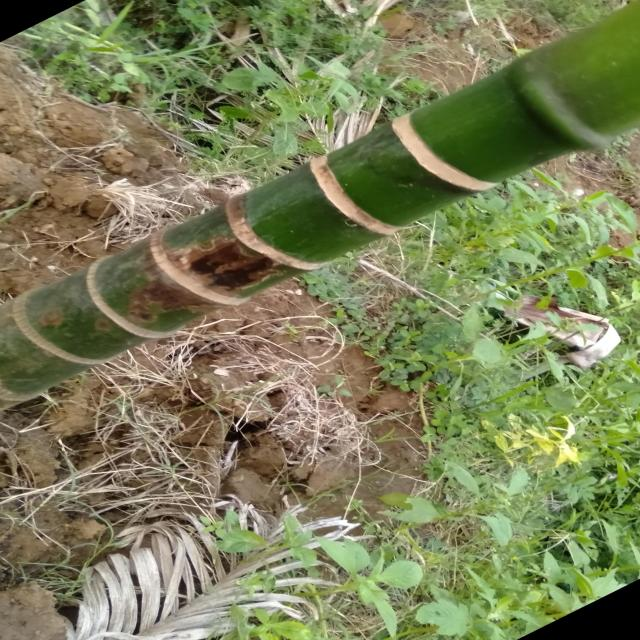Healthy_Trunk: (73, 40, 510, 376)
